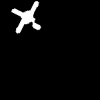single_crochet: (12, 1, 40, 32)
